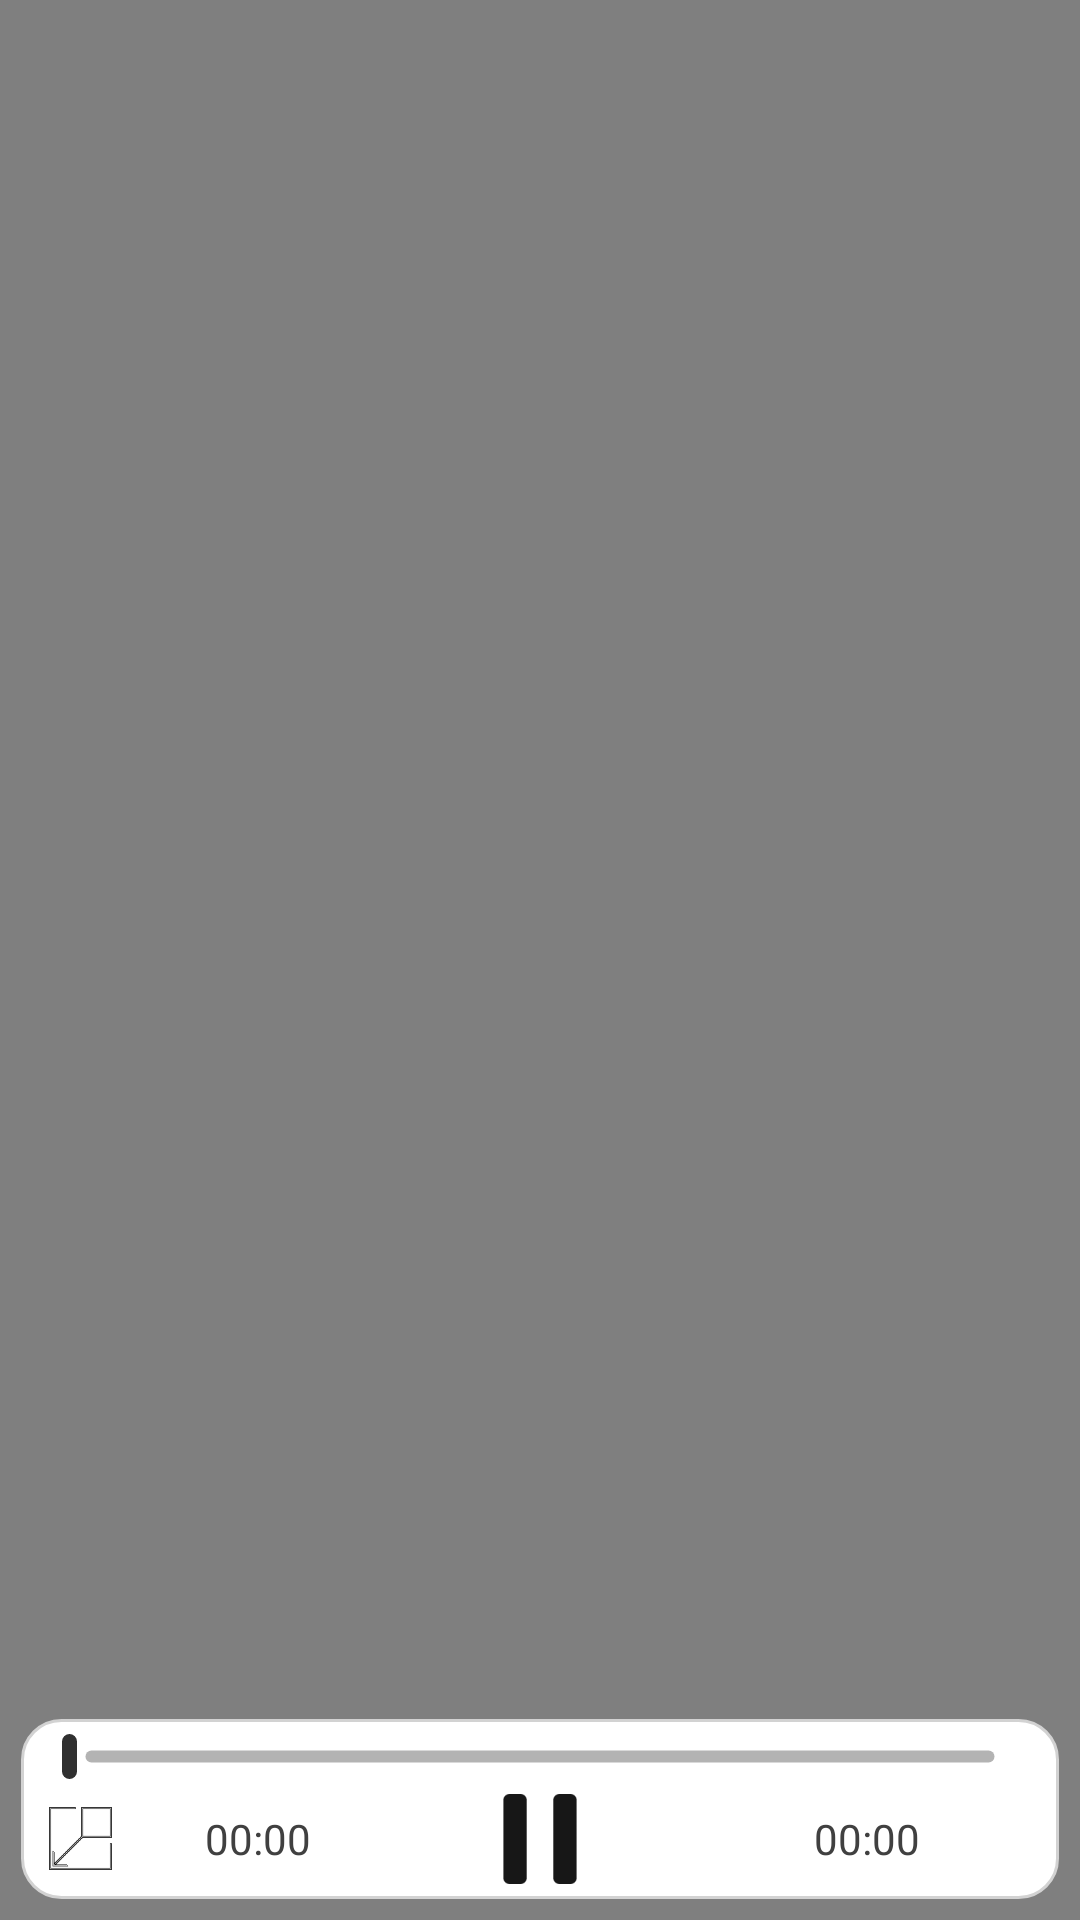

Point at icon controls on the screen. Image size 1080x1920, points as (x=x, y=y).
btpause: (x=540, y=1839)
minimizar: (x=80, y=1838)
